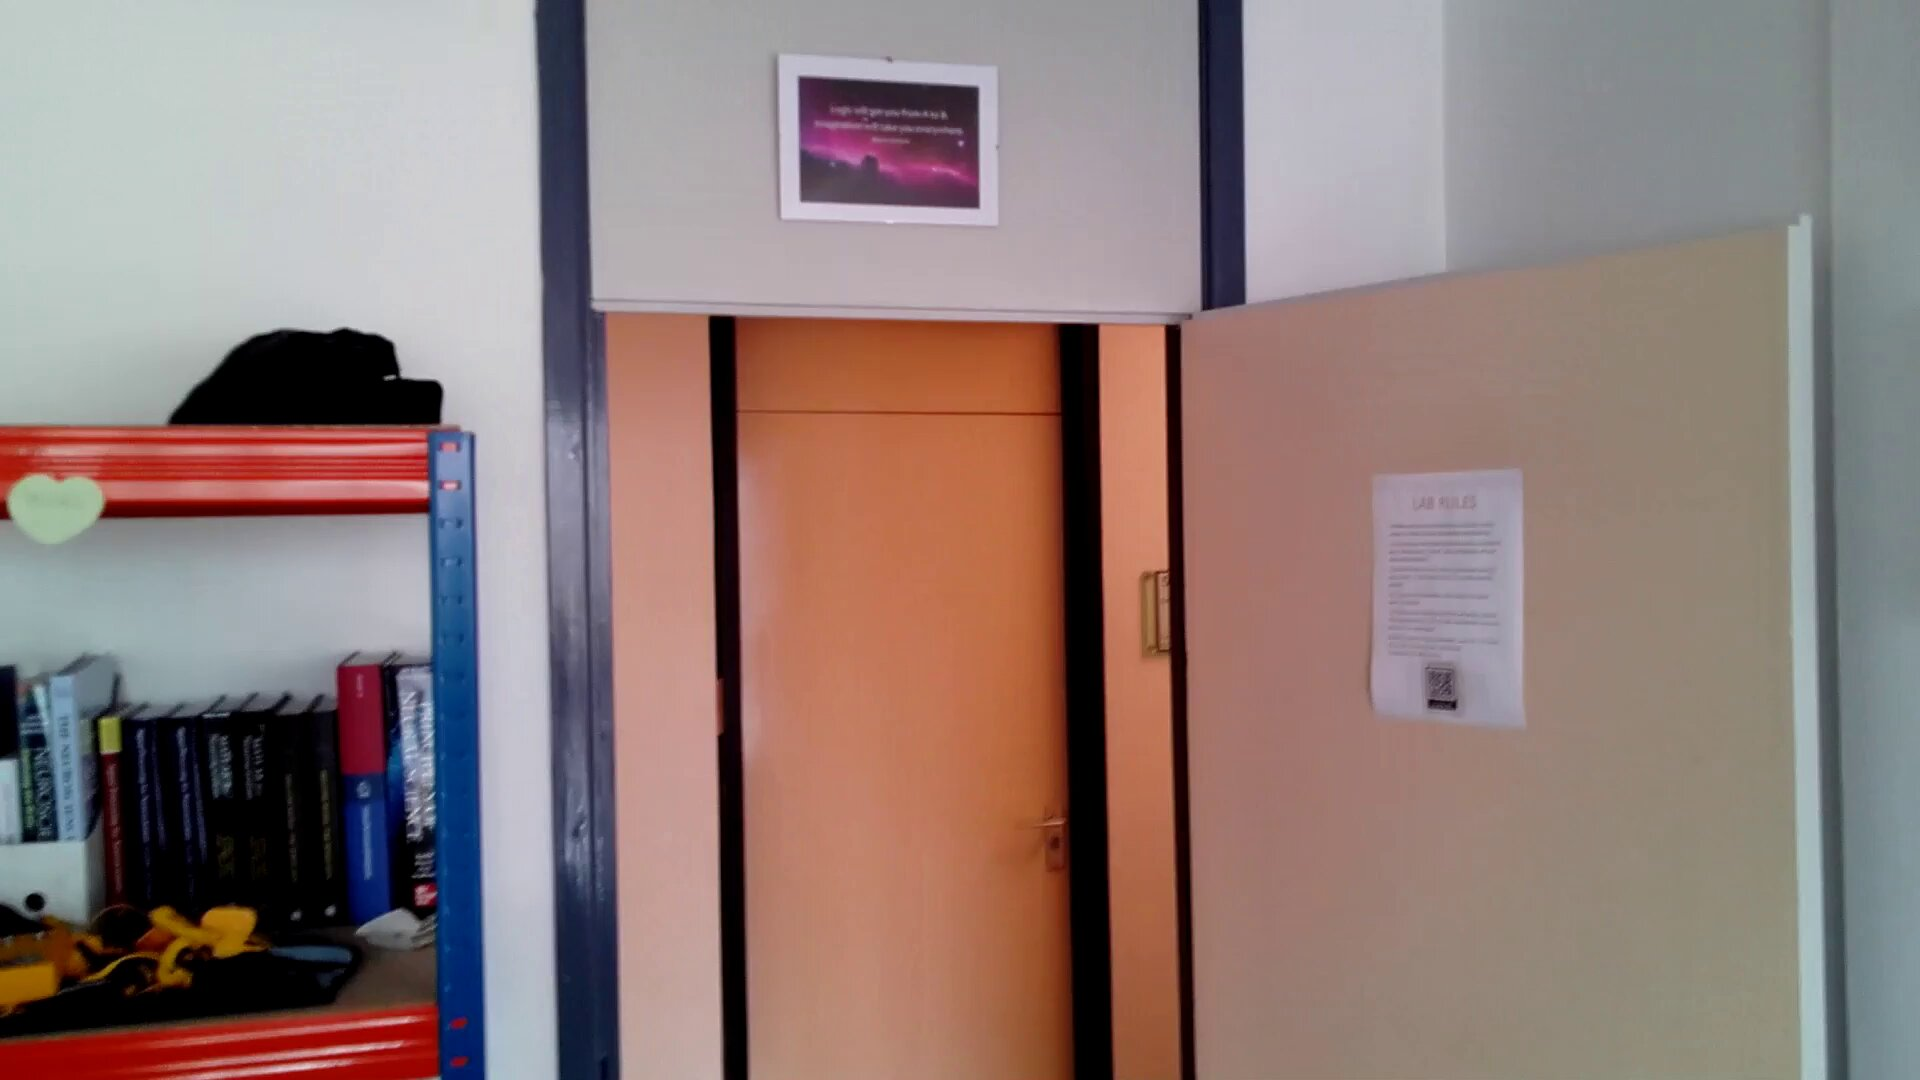Door: (705, 392, 1133, 1080)
